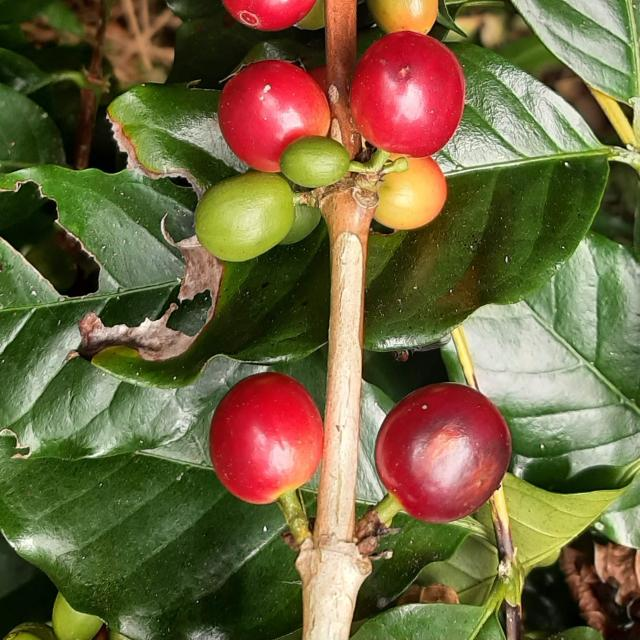green: (195, 170, 295, 262), (280, 135, 351, 187), (279, 204, 322, 245)
red: (376, 383, 513, 524), (210, 373, 324, 505), (351, 30, 466, 157), (218, 59, 331, 172), (223, 0, 316, 30)
yellow: (375, 156, 448, 230), (367, 0, 439, 33)
